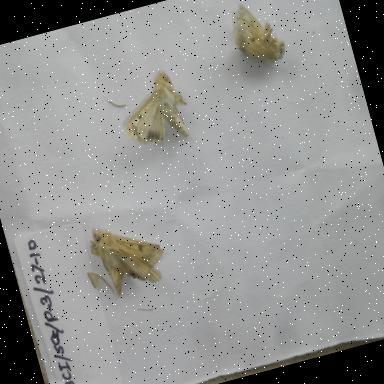abw: (84, 210, 176, 306), (109, 64, 200, 158), (212, 0, 295, 76)
